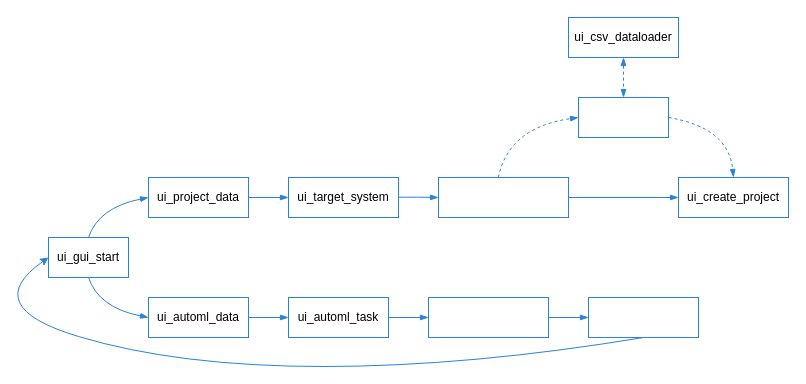
This 806x384 diagram has some shape labels left out. Here are the shapes that lost their labels. From the top down, the centre of each, then its label:
At point (623, 117): "ui_dataloader".
At point (503, 197): "ui_optimization_algo".
At point (488, 317): "ui_automl_settings".
At point (643, 317): "ui_automl_training".
